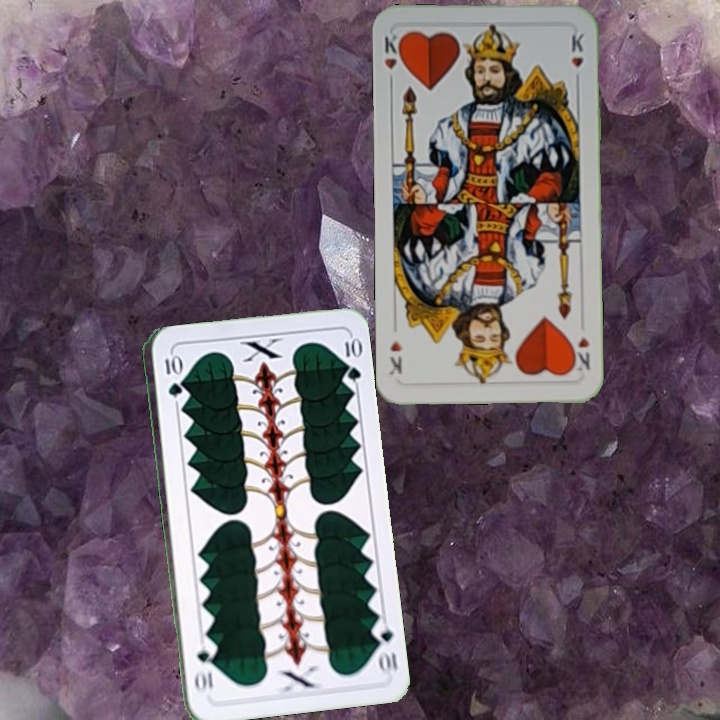G10: (368, 617, 400, 674), (161, 350, 181, 400)
HK: (380, 29, 406, 89), (568, 332, 593, 374)
